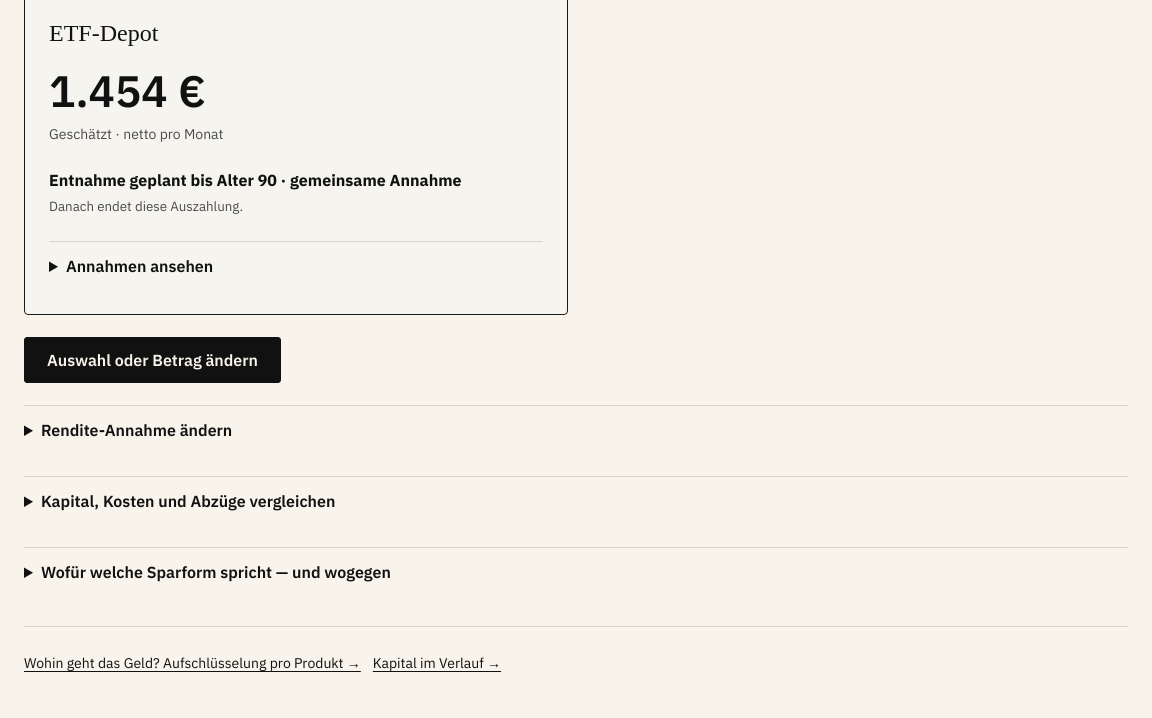
Test: comparison journey with real compare-state handlers › never imports the saved plan silently — comparison state wins on load
(page scrolled)
Step 1. Click the button "Auswahl oder Betrag ändern" → (152, 360), box [24, 337, 281, 383]
(page scrolled)
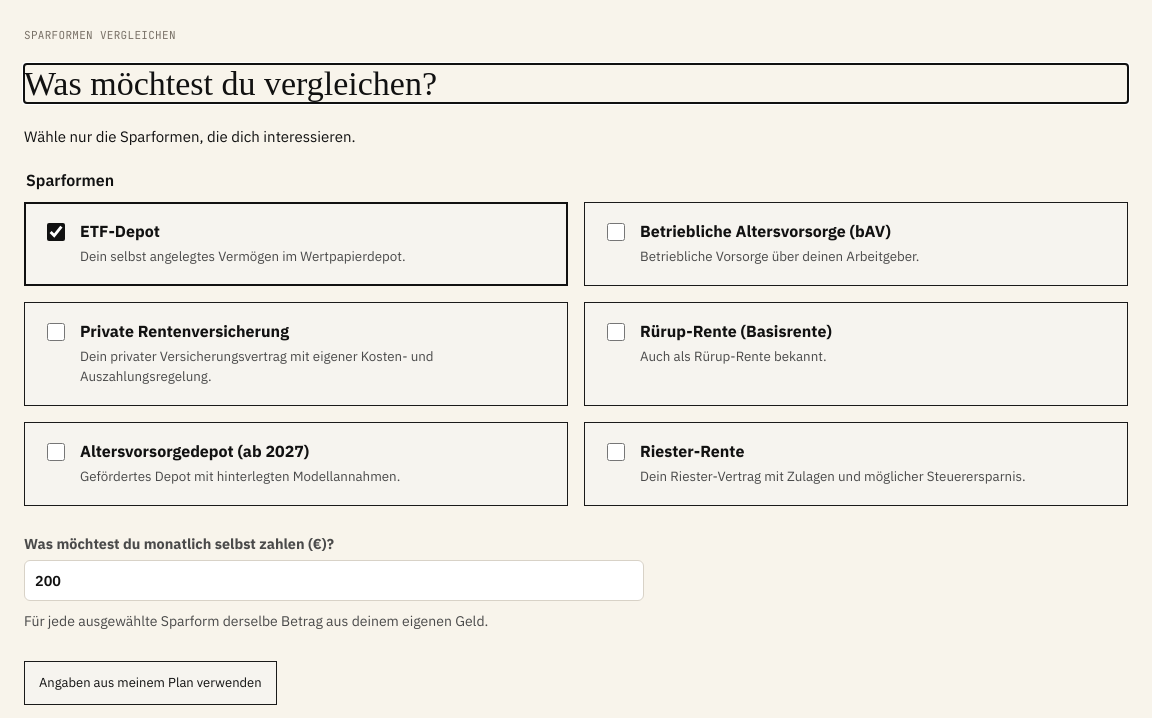
Step 2. Click the button "Angaben aus meinem Plan verwenden" → (150, 683), box [24, 661, 277, 705]
(page scrolled)
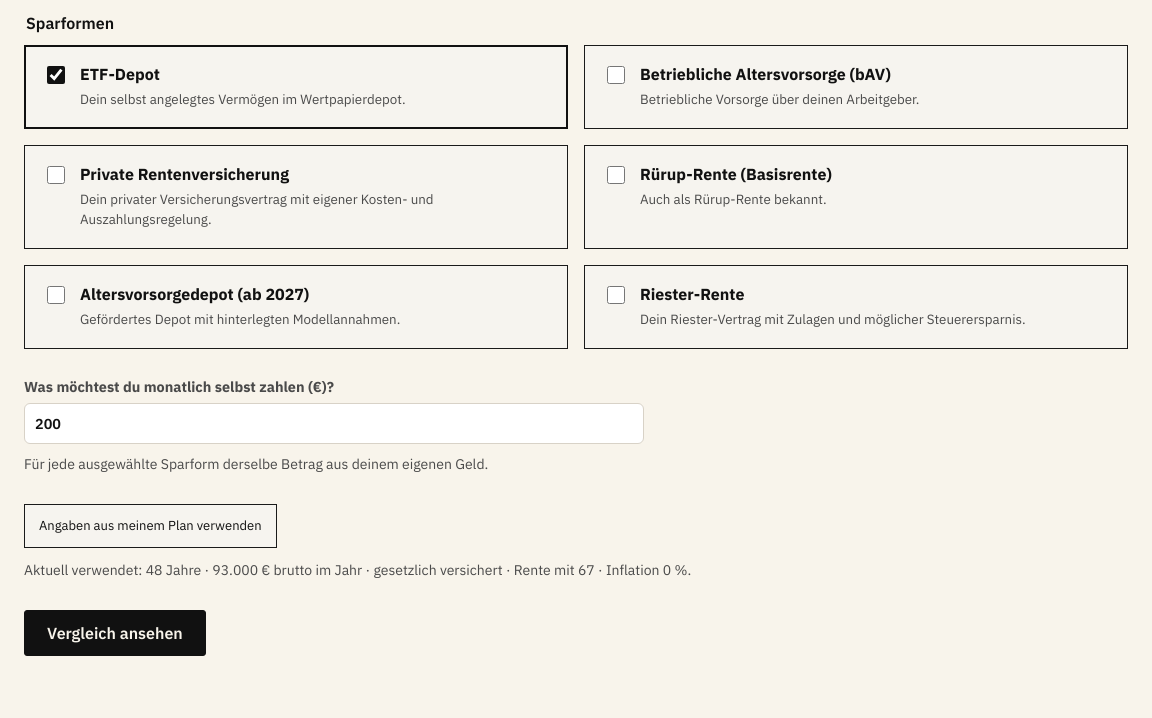
expect the text "Aktuell verwendet:" shows "48 Jahre · 93.000": met, box [146, 561, 688, 579]
